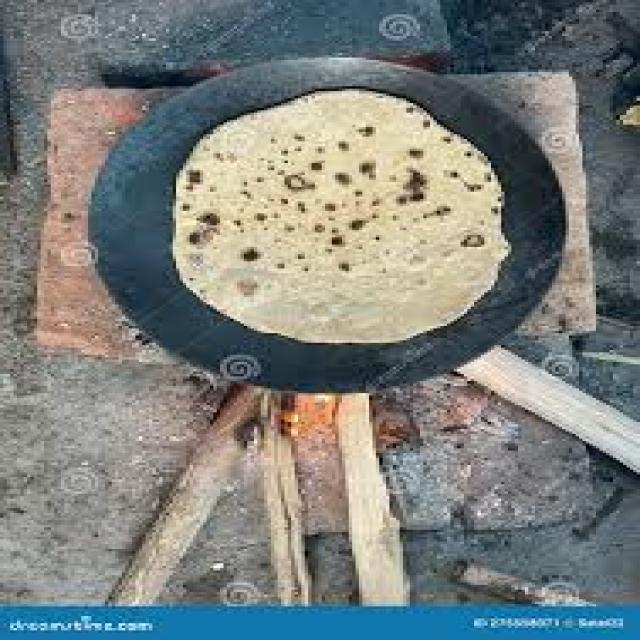ROTI: (176, 91, 508, 340)
